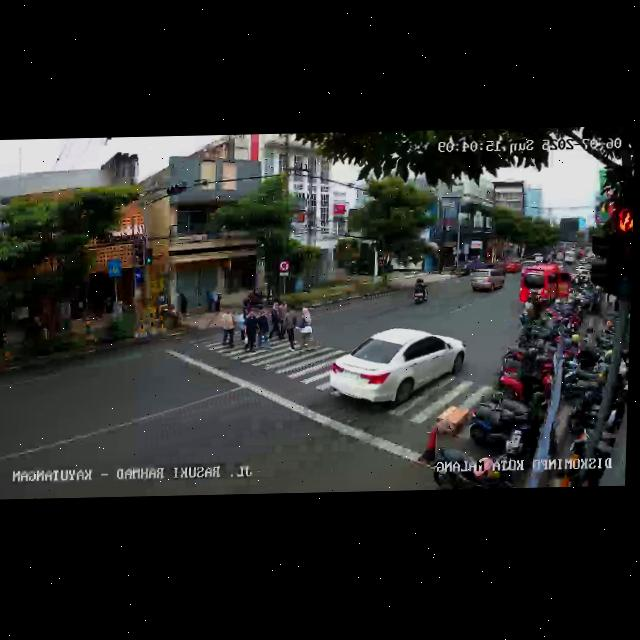car: (326, 328, 463, 414), (519, 264, 573, 310), (469, 268, 506, 294), (504, 258, 522, 275)
motorcycle: (412, 278, 430, 307)
person: (298, 306, 320, 354), (243, 310, 261, 353), (283, 304, 299, 352), (219, 306, 235, 352), (256, 308, 270, 350), (269, 299, 281, 342), (237, 304, 250, 337), (278, 299, 289, 324)
